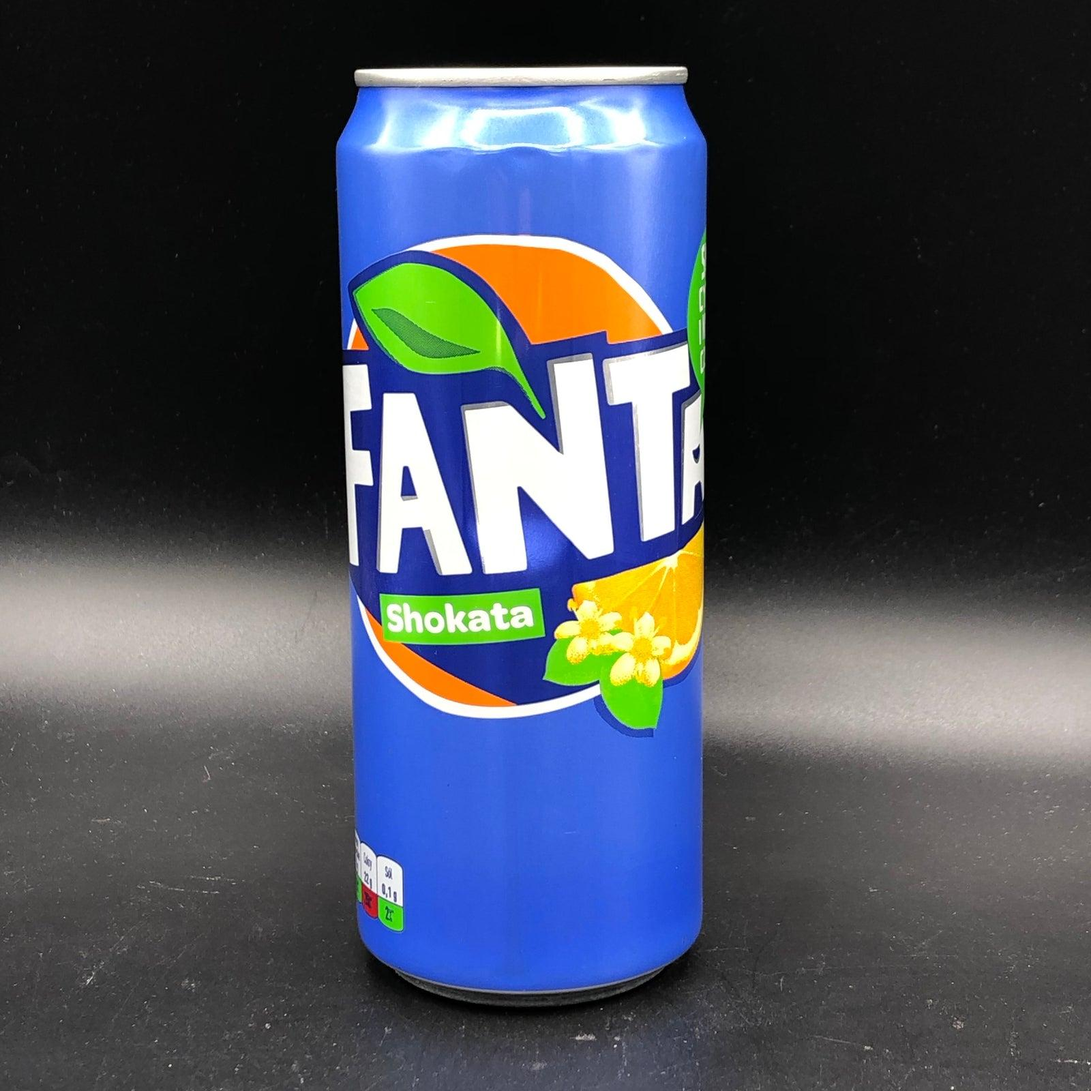metal: (337, 66, 706, 1007)
